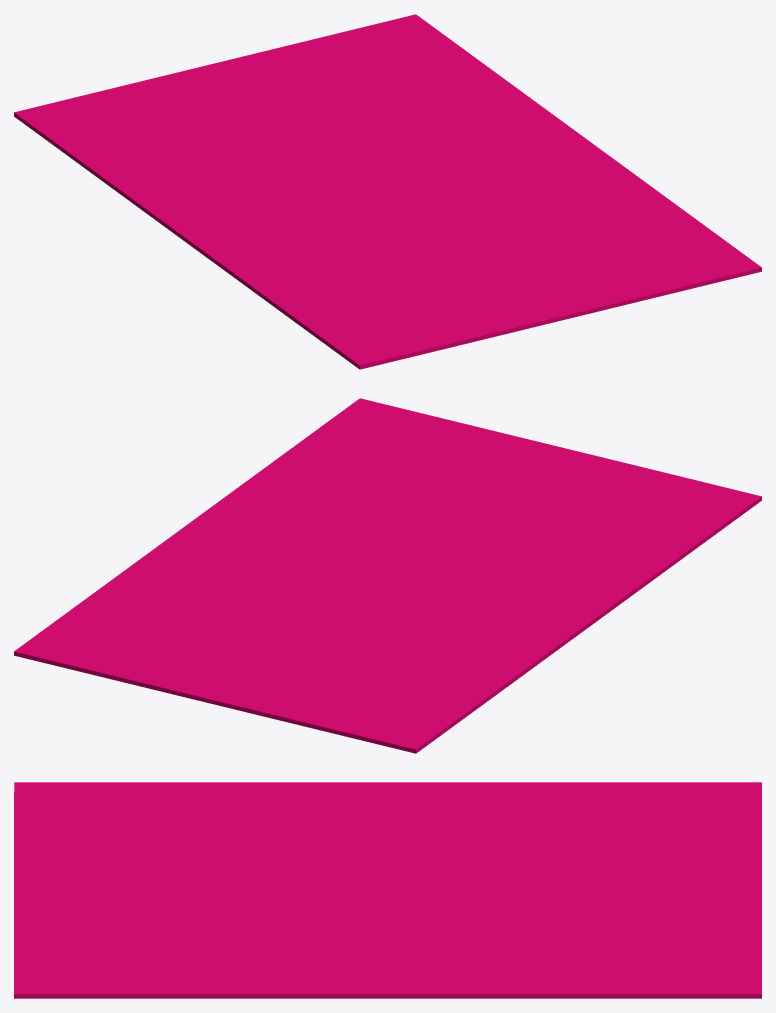
Rendered from BH03_Floor_04.fbx.
3 views of the same model, one above another, from view 1: azimuth 30°, elevation 25°; view 2: azimuth 150°, elevation 25°; view 3: azimuth 270°, elevation 25° (orthographic). The views are drawn at different scales.
Parts seen in each view (by area): view 1: BH03_Floor_04; view 2: BH03_Floor_04; view 3: BH03_Floor_04.
Boxes of the visible parts, bbox=[...] form: BH03_Floor_04: bbox=[14, 14, 761, 369]; BH03_Floor_04: bbox=[14, 398, 761, 753]; BH03_Floor_04: bbox=[14, 782, 761, 998].
Bounding box in the file's own units: 818 × 8.06 × 1220.
